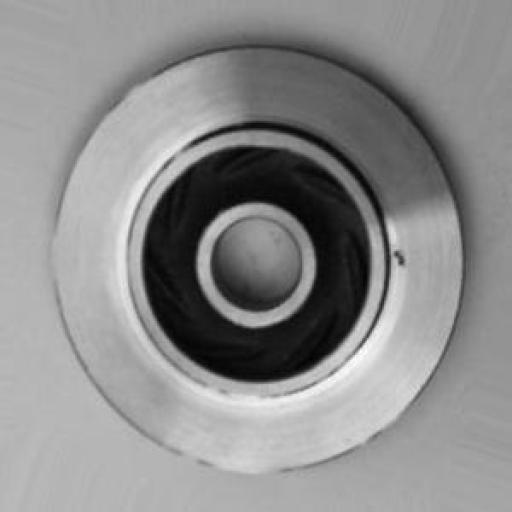defect: (376, 238, 420, 292)
